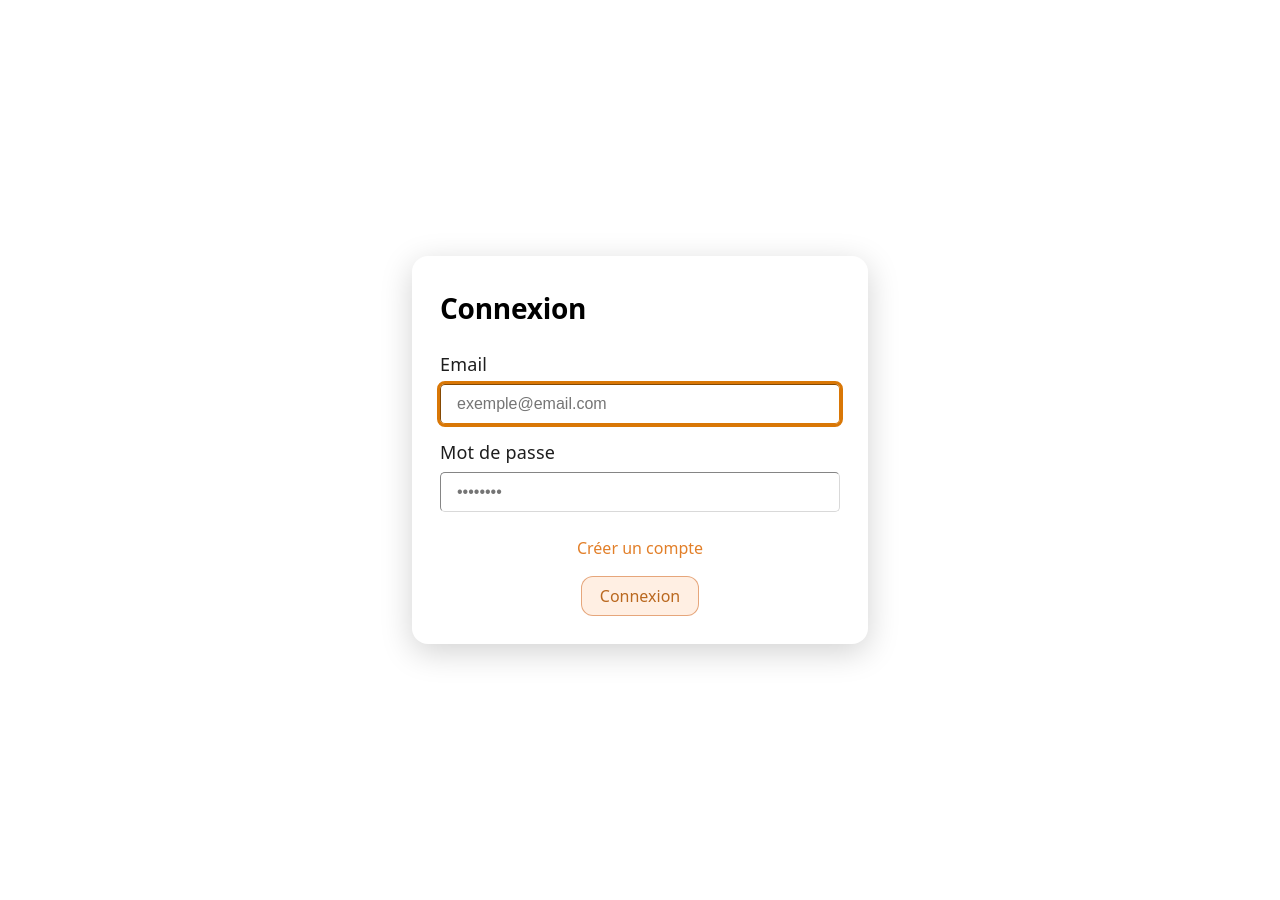
Test: AuthModal › switches to the register form when "Créer un compte" is clicked
This screenshot has width=1280, height=900.
Click the button "Créer un compte": (640, 548) [558,528,722,568]
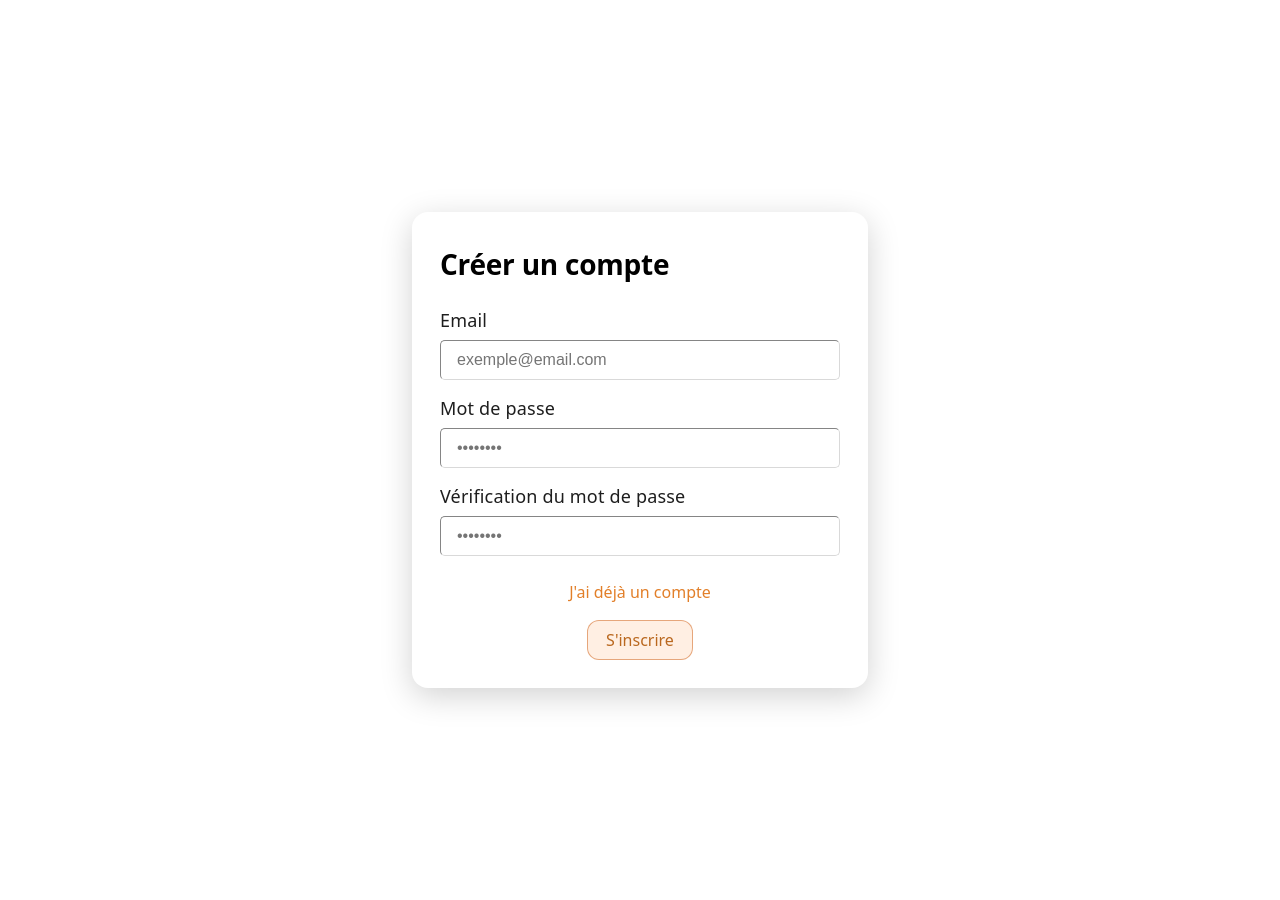
Now the heading "Créer un compte" is shown, box [440,245,669,283]
Now the password field labelled "Vérification du mot de passe" is shown, box [440,516,840,556]
